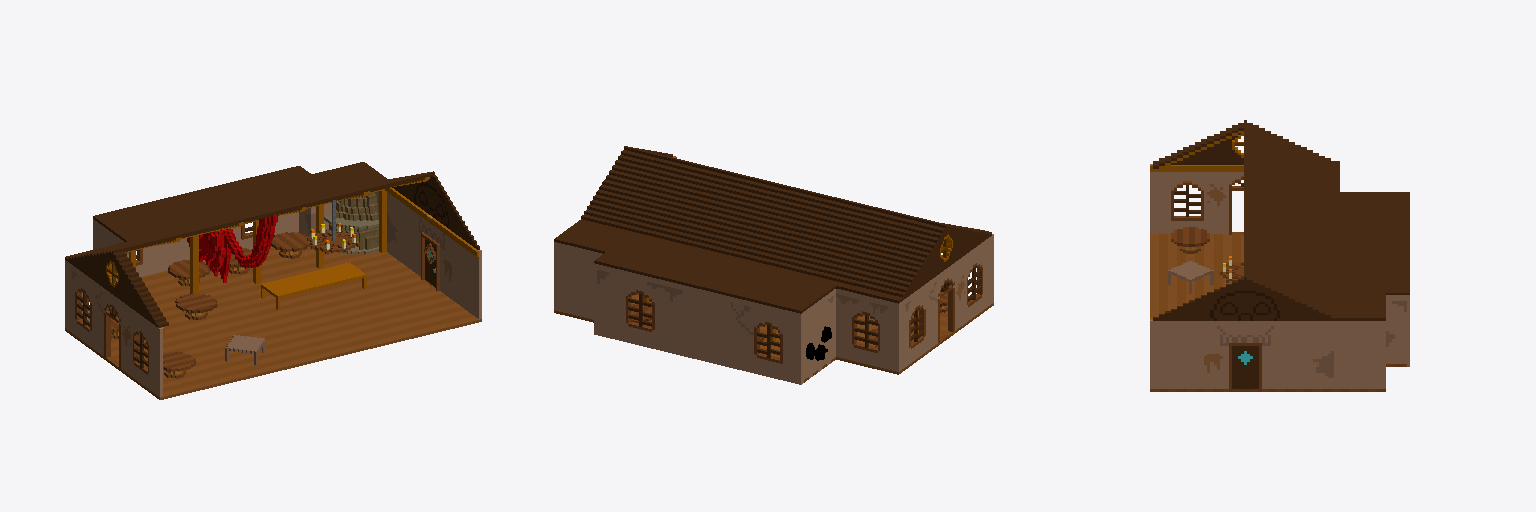
The picture shows the model from 3 angles: view 1: azimuth 30°, elevation 25°; view 2: azimuth 150°, elevation 25°; view 3: azimuth 270°, elevation 25°; orthographic projection.
Bounding box in the file's own units: 123 × 42 × 86.
Materials: 1 (1 with a texture image).